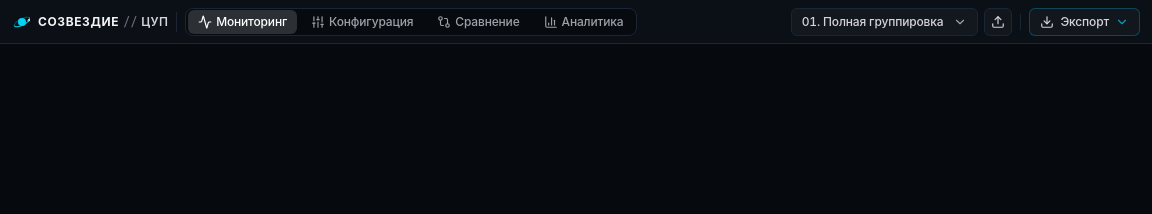
Scenario: Header › selects a preset when option is clicked
Note: Open dropdown
Click the button "01. Полная группировка".
click(885, 22)  # box [791,8,978,36]
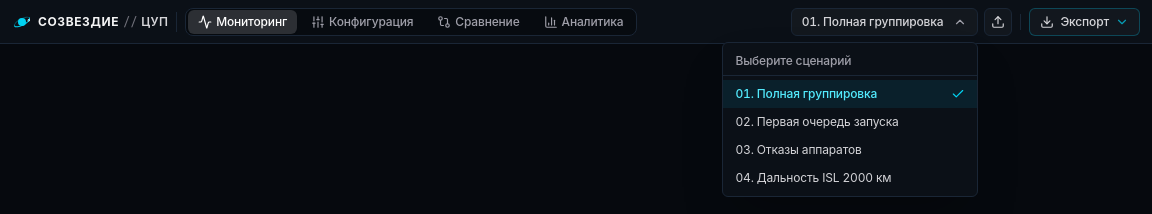
Note: Click second preset
Click the button "02. Первая очередь запуска".
click(850, 122)  # box [723,108,977,136]
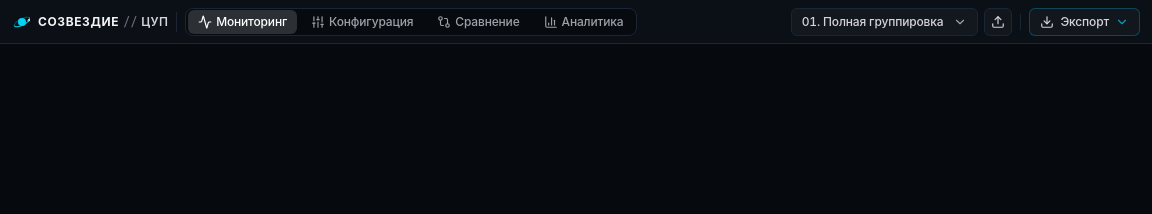
Now the text "Выберите сценарий" is gone
